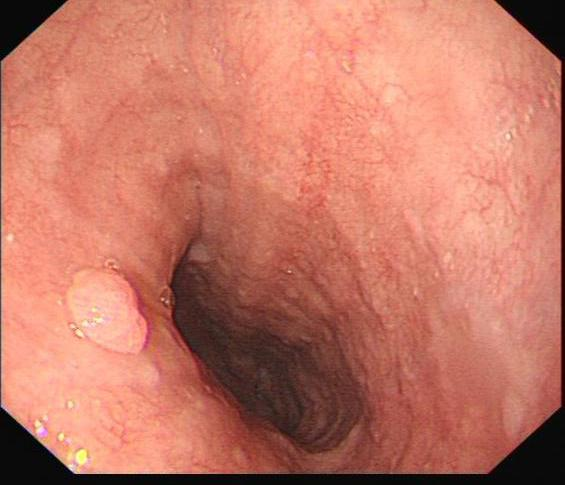Polyp: (64, 272, 145, 351)
